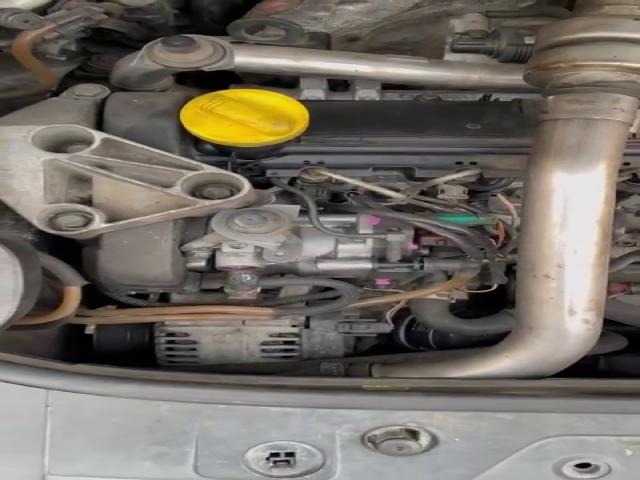alternator: (157, 317, 304, 366)
high_pressure_pump: (214, 214, 424, 288)
